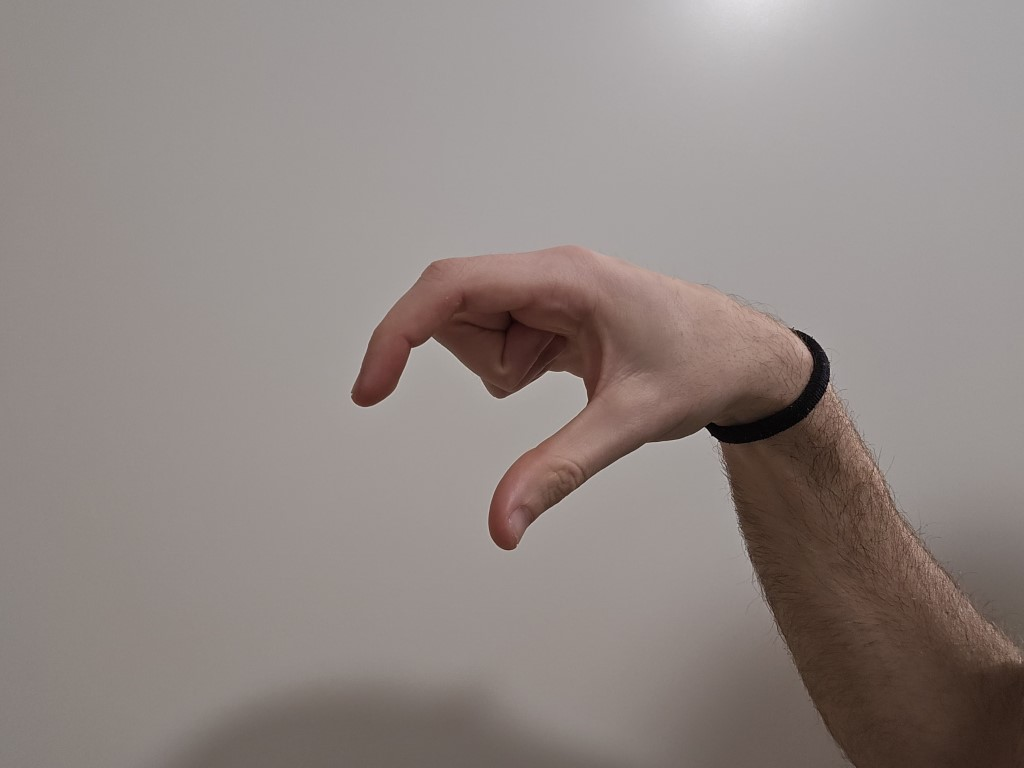q: (321, 212, 709, 571)
